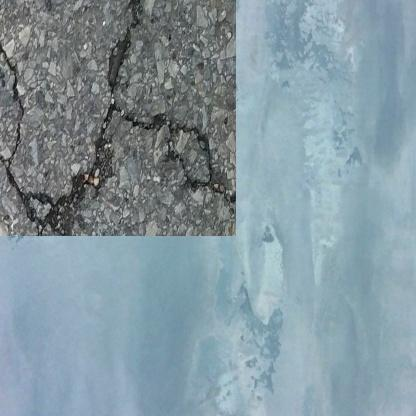Cracks: (0, 0, 218, 218)
